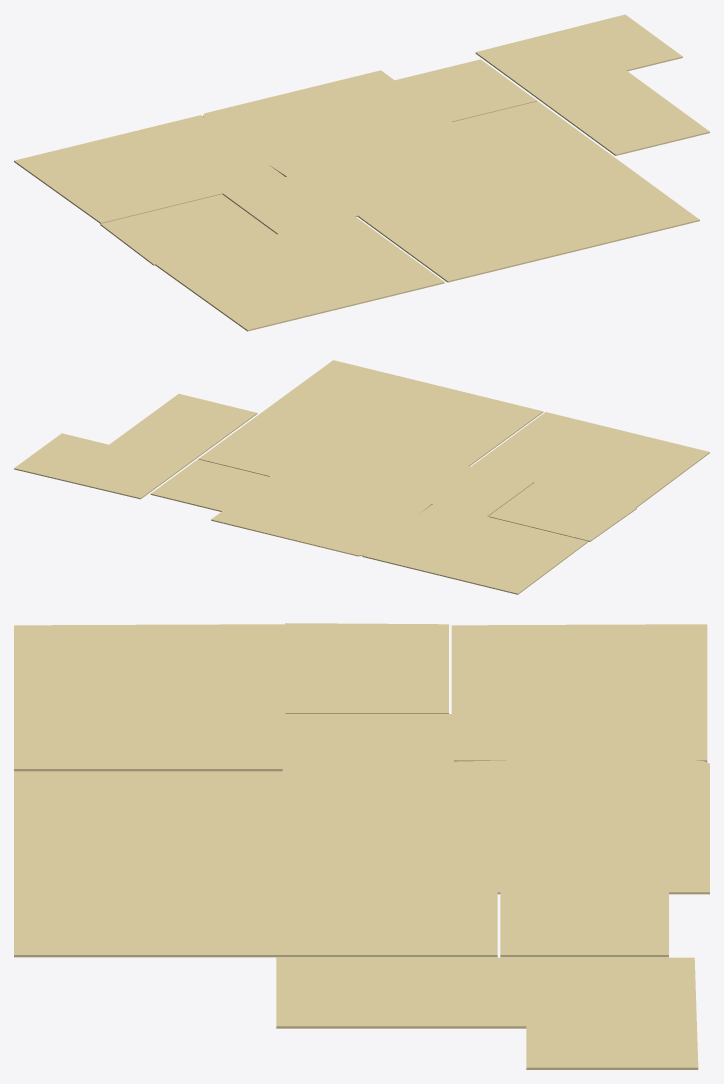
File: homeCeiling.FBX
The picture shows the model from 3 angles, top to bottom: view 1: azimuth 30°, elevation 25°; view 2: azimuth 150°, elevation 25°; view 3: azimuth 270°, elevation 25°; orthographic projection. The views are drawn at different scales.
Parts seen in each view (by area): view 1: Line2098, Line2099, Line2103, Line2101, Line2100, Line2102; view 2: Line2098, Line2099, Line2103, Line2101, Line2100, Line2102; view 3: Line2098, Line2099, Line2103, Line2101, Line2100, Line2102.
Boxes of the visible parts, box(x1,y1,x2,y2) form: Line2098: box(203, 70, 699, 282); Line2099: box(155, 215, 444, 331); Line2103: box(475, 14, 709, 155); Line2101: box(14, 115, 284, 223); Line2100: box(100, 194, 276, 265); Line2102: box(395, 59, 537, 122); Line2098: box(198, 360, 543, 556); Line2099: box(470, 412, 709, 507); Line2103: box(14, 394, 257, 499); Line2101: box(362, 504, 587, 594); Line2100: box(488, 483, 636, 541); Line2102: box(150, 459, 270, 511); Line2098: box(14, 714, 709, 957); Line2099: box(14, 624, 285, 771); Line2103: box(276, 957, 698, 1069); Line2101: box(451, 624, 707, 762); Line2100: box(285, 623, 448, 713); Line2102: box(500, 892, 668, 957).
Size of the model in its own units: 460 by 3.26 by 304.
